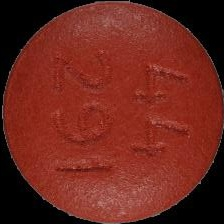50844-291: (0, 0, 224, 224)
